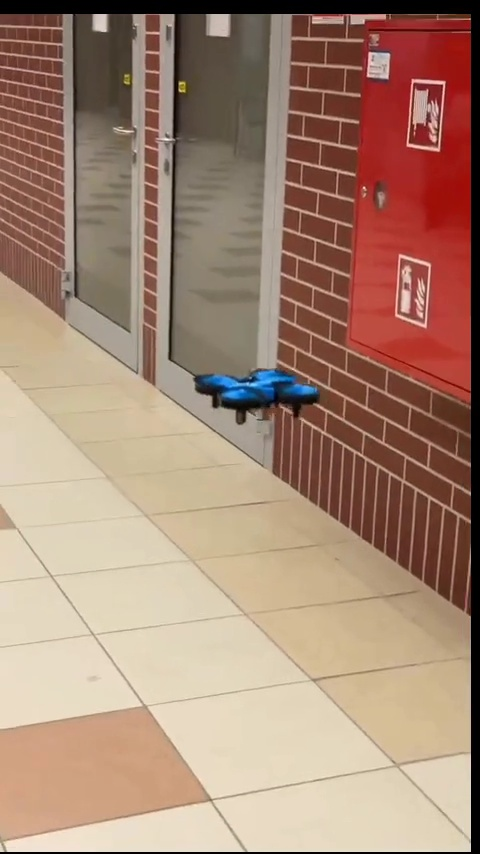drone: (199, 367, 323, 423)
